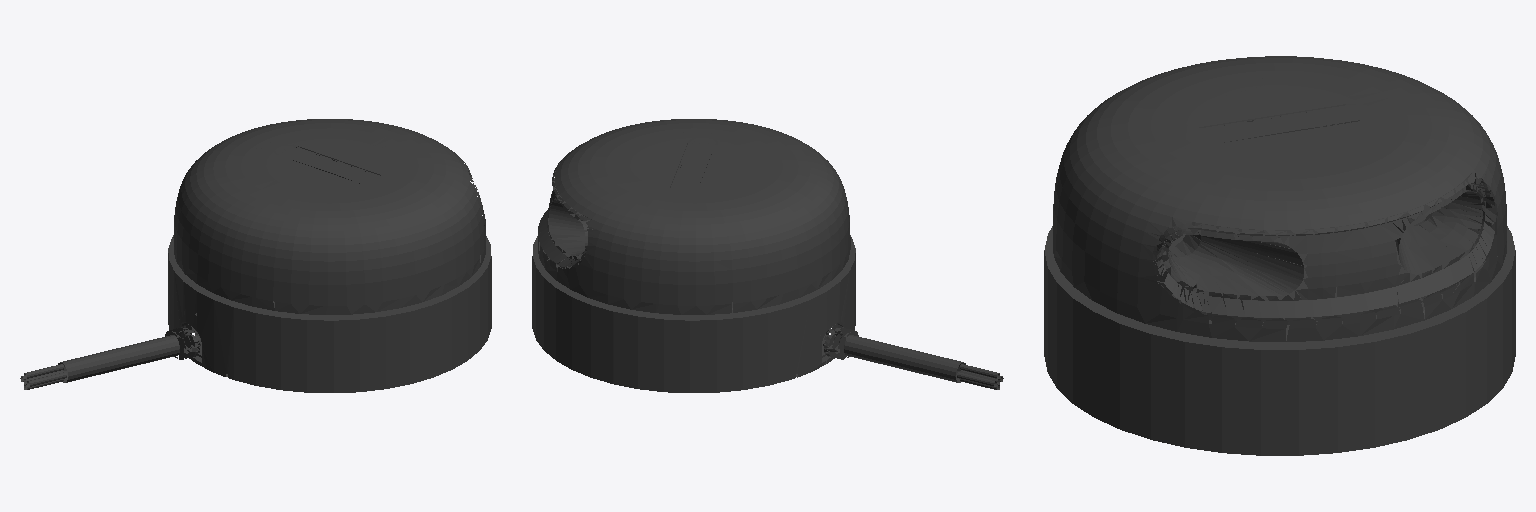
The robot description file, URDF, robot "turtlebot3_burger":
<?xml version="1.0" ?>
<robot name="turtlebot3_burger"
  xmlns:xacro="http://ros.org/wiki/xacro">
  <!-- <xacro:include filename="$(find turtlebot3_description)/urdf/common_properties.urdf"/> -->

  <!-- Init colour -->
  <material name="black">
      <color rgba="0.0 0.0 0.0 1.0"/>
  </material>

  <material name="dark">
    <color rgba="0.3 0.3 0.3 1.0"/>
  </material>

  <material name="light_black">
    <color rgba="0.4 0.4 0.4 1.0"/>
  </material>

  <material name="blue">
    <color rgba="0.0 0.0 0.8 1.0"/>
  </material>

  <material name="green">
    <color rgba="0.0 0.8 0.0 1.0"/>
  </material>

  <material name="grey">
    <color rgba="0.5 0.5 0.5 1.0"/>
  </material>

  <material name="orange">
    <color rgba="1.0 0.4235 0.0392 1.0"/>
  </material>

  <material name="brown">
    <color rgba="0.8706 0.8118 0.7647 1.0"/>
  </material>

  <material name="red">
    <color rgba="0.8 0.0 0.0 1.0"/>
  </material>

  <material name="white">
    <color rgba="1.0 1.0 1.0 1.0"/>
  </material>

  <link name="base_footprint"/>

  <joint name="base_joint" type="fixed">
    <parent link="base_footprint"/>
    <child link="base_link"/>
    <origin xyz="0.0 0.0 0.010" rpy="0 0 0"/>
  </joint>

  <link name="base_link">
    <visual>
      <origin xyz="-0.032 0 0.0" rpy="0 0 0"/>
      <geometry>
        <mesh filename="package://description/meshes/leftuniversalwheelbase_link.STL" scale="0.001 0.001 0.001"/>
      </geometry>
      <material name="light_black"/>
    </visual>

    <collision>
      <origin xyz="-0.032 0 0.070" rpy="0 0 0"/>
      <geometry>
        <box size="0.140 0.140 0.143"/>
      </geometry>
    </collision>

    <inertial>
      <origin xyz="0 0 0" rpy="0 0 0"/>
      <mass value="8.2573504e-01"/>
      <inertia ixx="2.2124416e-03" ixy="-1.2294101e-05" ixz="3.4938785e-05" iyy="2.1193702e-03" iyz="-5.0120904e-06" izz="2.0064271e-03" />
    </inertial>
  </link>

  <joint name="wheel_left_joint" type="continuous">
    <parent link="base_link"/>
    <child link="wheel_left_link"/>
    <origin xyz="0.0 0.08 0.023" rpy="-1.57 0 0"/>
    <axis xyz="0 0 1"/>
  </joint>

  <link name="wheel_left_link">
    <visual>
      <origin xyz="0 0 0" rpy="1.57 0 0"/>
      <geometry>
        <mesh filename="package://description/meshes/leftuniversalwheelbase_link.STL" scale="0.001 0.001 0.001"/>
      </geometry>
      <material name="dark"/>
    </visual>

    <collision>
      <origin xyz="0 0 0" rpy="0 0 0"/>
      <geometry>
        <cylinder length="0.018" radius="0.033"/>
      </geometry>
    </collision>

    <inertial>
      <origin xyz="0 0 0" />
      <mass value="2.8498940e-02" />
      <inertia ixx="1.1175580e-05" ixy="-4.2369783e-11" ixz="-5.9381719e-09" iyy="1.1192413e-05" iyz="-1.4400107e-11" izz="2.0712558e-05" />
    </inertial>
  </link>

  <joint name="wheel_right_joint" type="continuous">
    <parent link="base_link"/>
    <child link="wheel_right_link"/>
    <origin xyz="0.0 -0.080 0.023" rpy="-1.57 0 0"/>
    <axis xyz="0 0 1"/>
  </joint>

  <link name="wheel_right_link">
    <visual>
      <origin xyz="0 0 0" rpy="1.57 0 0"/>
      <geometry>
        <mesh filename="package://description/meshes/leftuniversalwheel_link.STL" scale="0.001 0.001 0.001"/>
      </geometry>
      <material name="dark"/>
    </visual>

    <collision>
      <origin xyz="0 0 0" rpy="0 0 0"/>
      <geometry>
        <cylinder length="0.018" radius="0.033"/>
      </geometry>
    </collision>

    <inertial>
      <origin xyz="0 0 0" />
      <mass value="2.8498940e-02" />
      <inertia ixx="1.1175580e-05" ixy="-4.2369783e-11" ixz="-5.9381719e-09" iyy="1.1192413e-05" iyz="-1.4400107e-11" izz="2.0712558e-05" />
    </inertial>
  </link>

  <joint name="caster_back_joint" type="fixed">
    <parent link="base_link"/>
    <child link="caster_back_link"/>
    <origin xyz="-0.081 0 -0.004" rpy="-1.57 0 0"/>
  </joint>

  <link name="caster_back_link">
    <collision>
      <origin xyz="0 0.001 0" rpy="0 0 0"/>
      <geometry>
        <box size="0.030 0.009 0.020"/>
      </geometry>
    </collision>

    <inertial>
      <origin xyz="0 0 0" />
      <mass value="0.005" />
      <inertia ixx="0.001" ixy="0.0" ixz="0.0" iyy="0.001" iyz="0.0" izz="0.001" />
    </inertial>
  </link>

  <joint name="imu_joint" type="fixed">
    <parent link="base_link"/>
    <child link="imu_link"/>
    <origin xyz="-0.032 0 0.068" rpy="0 0 0"/>
  </joint>

  <link name="imu_link"/>

  <joint name="scan_joint" type="fixed">
    <parent link="base_link"/>
    <child link="base_scan"/>
    <origin xyz="-0.032 0 0.172" rpy="0 0 0"/>
  </joint>

  <link name="base_scan">
    <visual>
      <origin xyz="0 0 0.0" rpy="0 0 0"/>
      <geometry>
        <mesh filename="package://description/meshes/laser_link.STL" scale="0.001 0.001 0.001"/>
      </geometry>
      <material name="dark"/>
    </visual>

    <collision>
      <origin xyz="0.015 0 -0.0065" rpy="0 0 0"/>
      <geometry>
        <cylinder length="0.0315" radius="0.055"/>
      </geometry>
    </collision>

    <inertial>
      <mass value="0.114" />
      <origin xyz="0 0 0" />
      <inertia ixx="0.001" ixy="0.0" ixz="0.0" iyy="0.001" iyz="0.0" izz="0.001" />
    </inertial>
  </link>

</robot>

--- What the picture shows (computed from the rendered views, not written in the file) ---
3 views of the same robot in one strip: view 1: azimuth 30°, elevation 25°; view 2: azimuth 150°, elevation 25°; view 3: azimuth 270°, elevation 25° (orthographic).
Robot: turtlebot3_burger — 7 links, 6 joints (2 continuous, 4 fixed); root link base_footprint; default pose: every joint at zero.
Links seen in each view (by area): view 1: base_scan; view 2: base_scan; view 3: base_scan.
Boxes of the visible links, left/top/right/bottom form: base_scan: left=20, top=119, right=491, bottom=392; base_scan: left=532, top=119, right=1003, bottom=392; base_scan: left=1044, top=56, right=1515, bottom=455.
Size in the robot's own frame: 0.0001 by 0.0001 by 0 metres.
Meshes: 3 distinct files referenced, 1 mesh visuals loaded (1 binary STL); not drawn: 3 (reference not matched to a file when rendering).